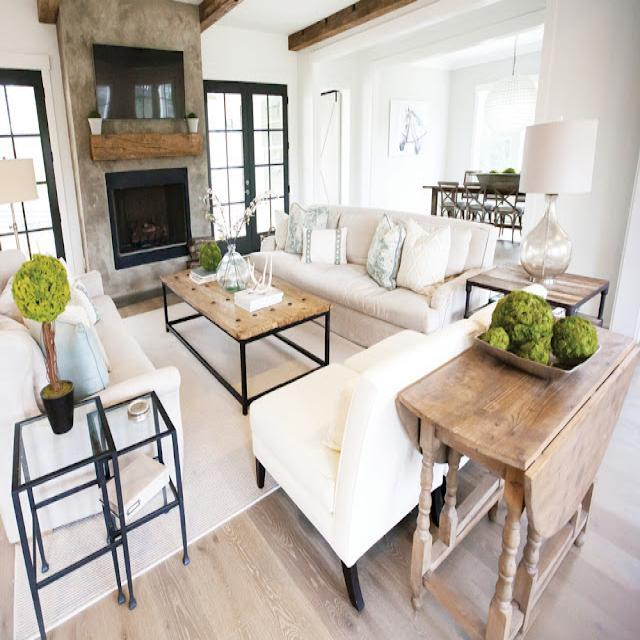table: (386, 320, 631, 488), (150, 244, 338, 362), (456, 238, 616, 314)
